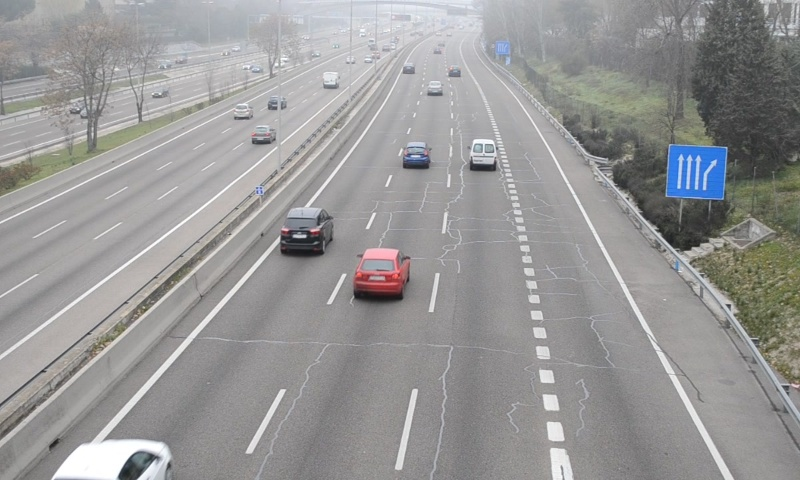car: (354, 249, 407, 299), (282, 208, 331, 252), (402, 142, 430, 168), (425, 80, 443, 96)
van: (470, 139, 497, 170)
